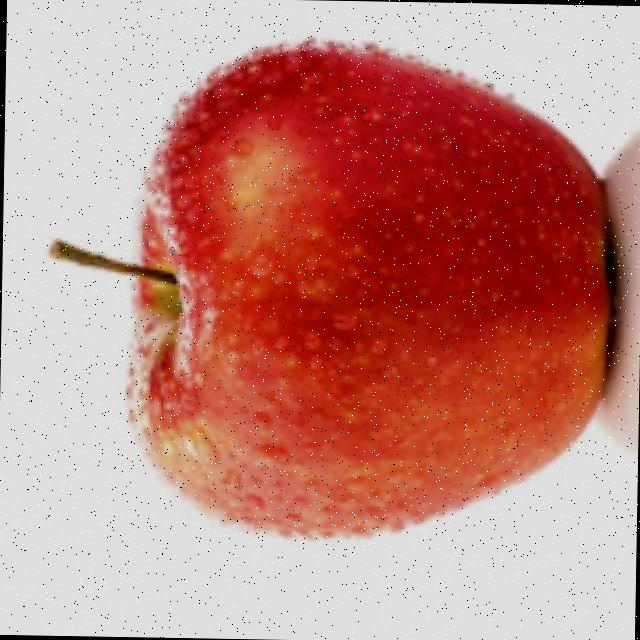Ripe: (120, 29, 621, 554)
